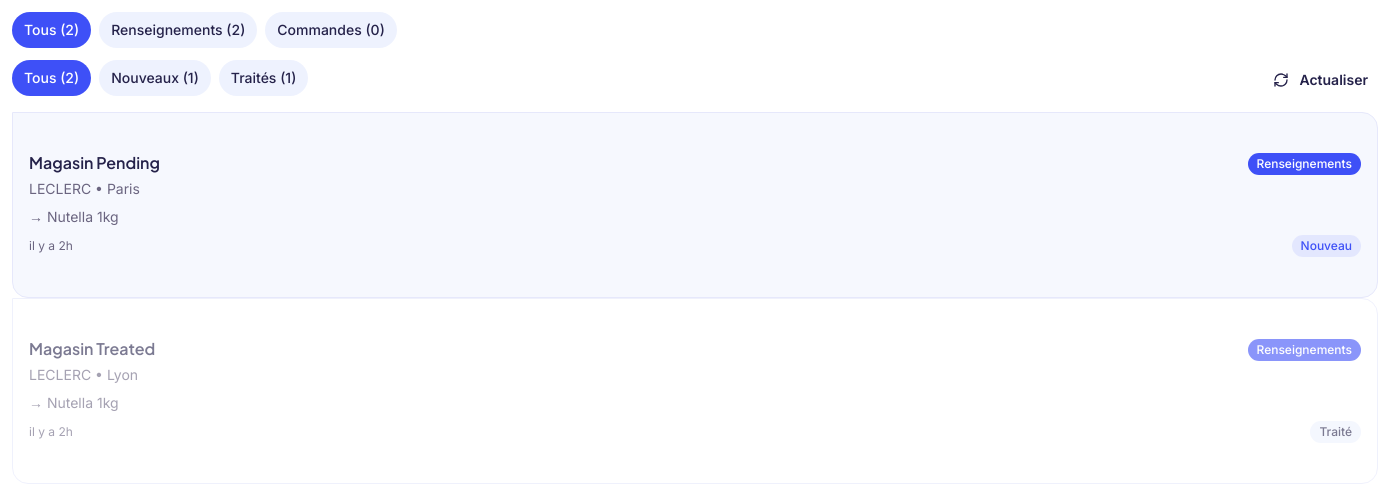
Test case: SupplierRequestList › filters by status when status chip is clicked
Click the radio button "Nouveaux (1)": (155,78) 99,60 -> 211,96
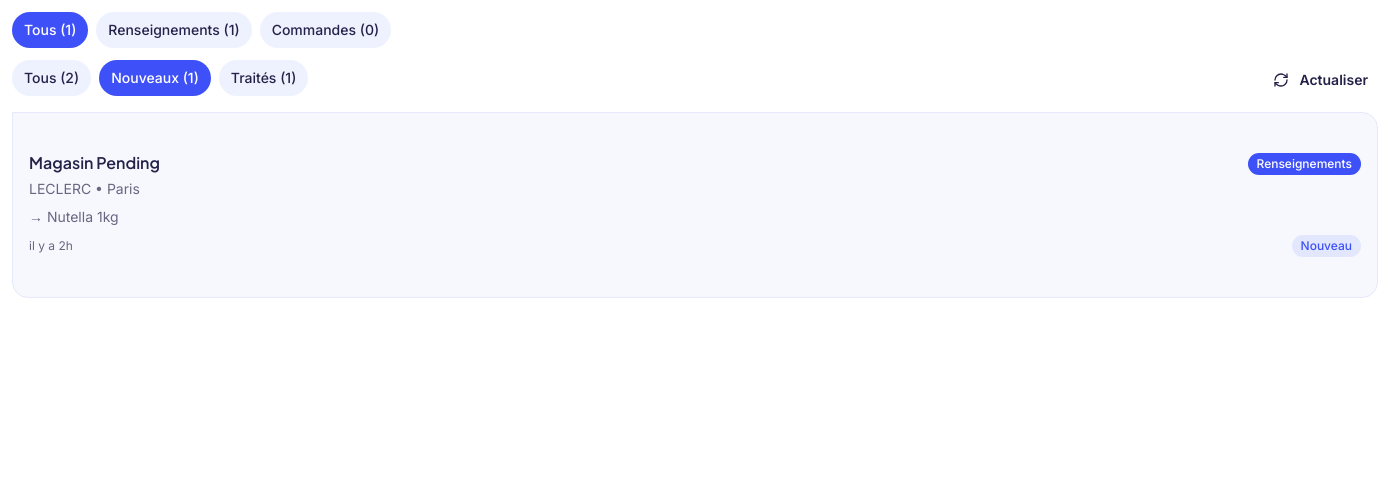
Expected: the heading "Magasin Pending" is shown, 29,153 -> 160,173
Result: the link "Magasin Treated" is gone
